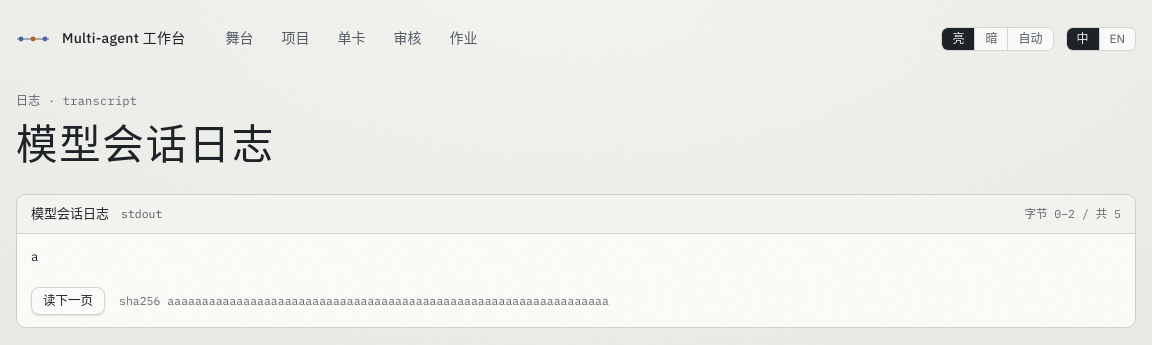
Test: decodes an archived transcript across byte pages and keeps the full digest on the last page
The image size is (1152, 345).
Expected: the text with class "log-body" reads "a", [31,248,38,264]
Step 1. Click the button "读下一页" → [68, 301], box [31,287,105,315]
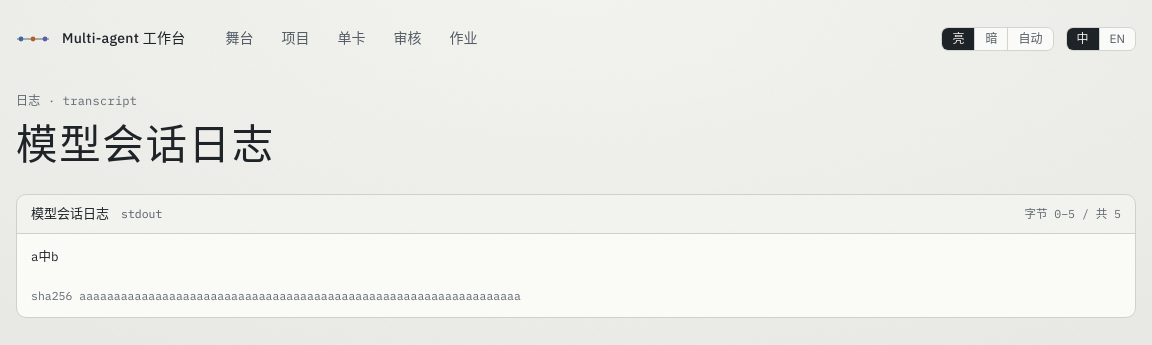
Now the text "a中b" is shown, box [31,248,58,264]
Now the button "读下一页" is gone
